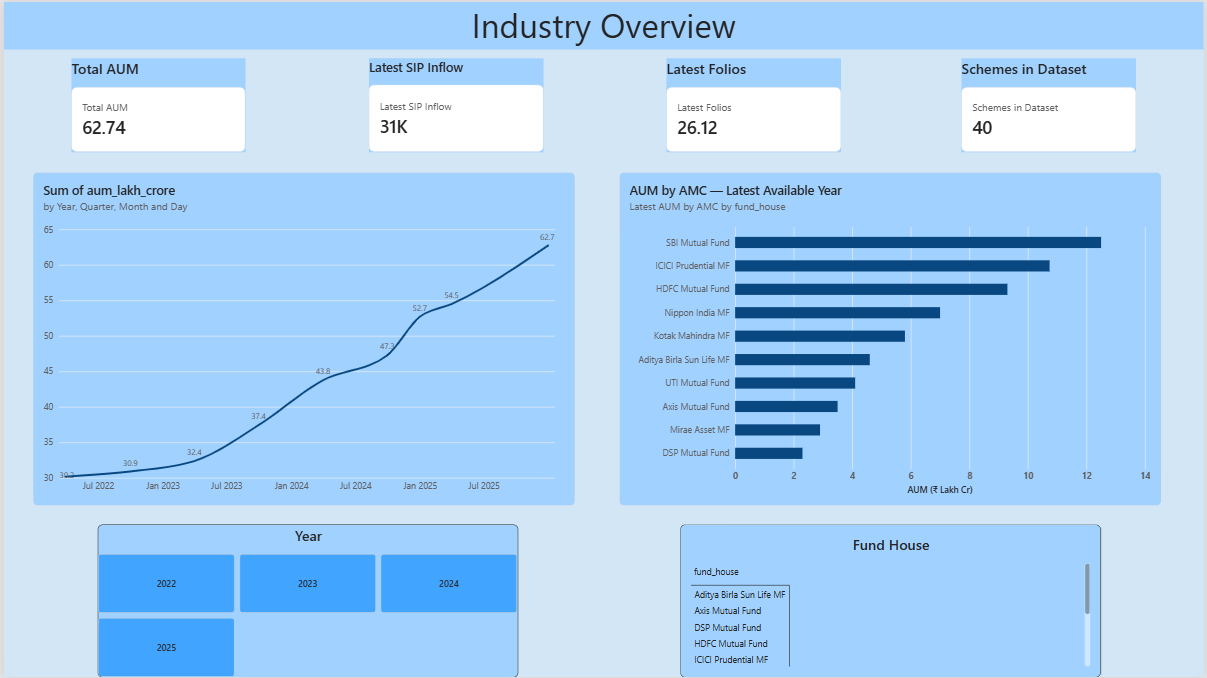

What the dashboard file says about the page in this screenshot:
{"tool":"powerbi","page":{"name":"Industry Overview","canvas":[1920,1080],"ordinal":0},"visuals":[{"type":"cardVisual","title":"Total AUM","fields":{"Data":["03_aum_by_fund_house.Total AUM"]},"box":[108.2,90.9,278.7,150.2],"z":0},{"type":"cardVisual","title":"Latest SIP Inflow","fields":{"Data":["04_monthly_sip_inflows.Latest SIP Inflow"]},"box":[584.3,90.9,279,150],"z":1000},{"type":"cardVisual","title":"Latest Folios","fields":{"Data":["06_industri_folio_count.Latest Folios"]},"box":[1060.4,90.9,279,150],"z":2000},{"type":"cardVisual","title":"Schemes in Dataset","fields":{"Data":["01_fund_master.Total_schemes"]},"box":[1532.2,90.9,279,150],"z":3000},{"type":"lineChart","fields":{"Category":["03_aum_by_fund_house.date.Variation.Date Hierarchy.Year","03_aum_by_fund_house.date.Variation.Date Hierarchy.Quarter","03_aum_by_fund_house.date.Variation.Date Hierarchy.Month","03_aum_by_fund_house.date.Variation.Date Hierarchy.Day"],"Y":["Sum(03_aum_by_fund_house.aum_lakh_crore)"]},"box":[45.4,272.7,867.8,534.5],"z":4000},{"type":"clusteredBarChart","title":"AUM by AMC — Latest Available Year","fields":{"Category":["03_aum_by_fund_house.fund_house"],"Y":["03_aum_by_fund_house.Latest AUM by AMC"]},"box":[984.7,272.7,867.8,534.5],"z":5000},{"type":"advancedSlicerVisual","fields":{"Values":["03_aum_by_fund_house.date.Variation.Date Hierarchy.Year"]},"box":[150,835,673,244.5],"z":6000},{"type":"pivotTable","title":"Fund House","fields":{"Rows":["01_fund_master.fund_house"]},"box":[1082.1,835.4,673,244.5],"z":7000},{"type":"textbox","box":[0,0,1919.6,75.7],"z":7001}]}

Visuals, with their boxes in screenshot pixels (x1, y1, x2, y2), scaled from the page's 1920x1080 canvas onto the 1207x678 screenshot:
"Total AUM" cardVisual: {"x1": 68, "y1": 57, "x2": 243, "y2": 151}
"Latest SIP Inflow" cardVisual: {"x1": 367, "y1": 57, "x2": 543, "y2": 151}
"Latest Folios" cardVisual: {"x1": 667, "y1": 57, "x2": 842, "y2": 151}
"Schemes in Dataset" cardVisual: {"x1": 963, "y1": 57, "x2": 1139, "y2": 151}
lineChart - 03_aum_by_fund_house.date.Variation.Date Hierarchy.Year x 03_aum_by_fund_house.date.Variation.Date Hierarchy.Quarter: {"x1": 29, "y1": 171, "x2": 574, "y2": 507}
"AUM by AMC — Latest Available Year" clusteredBarChart: {"x1": 619, "y1": 171, "x2": 1165, "y2": 507}
advancedSlicerVisual - 03_aum_by_fund_house.date.Variation.Date Hierarchy.Year: {"x1": 94, "y1": 524, "x2": 517, "y2": 677}
"Fund House" pivotTable: {"x1": 680, "y1": 524, "x2": 1103, "y2": 677}
textbox: {"x1": 0, "y1": 0, "x2": 1206, "y2": 48}
